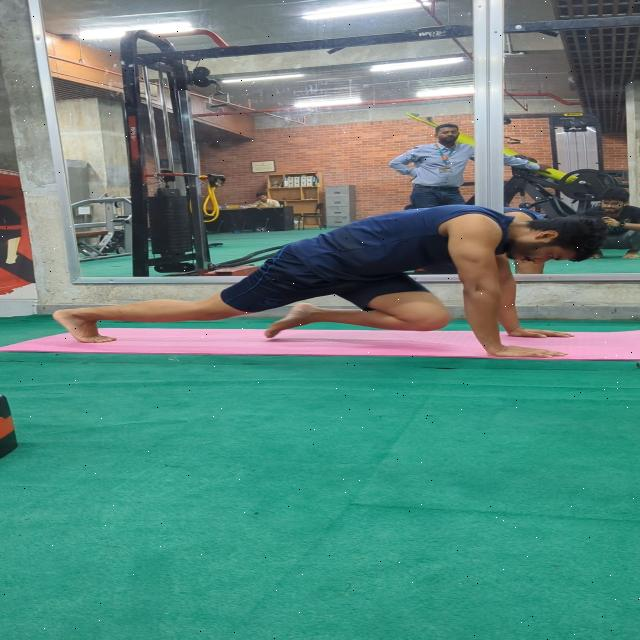Normal_MountainClimbers: (42, 186, 626, 364)
